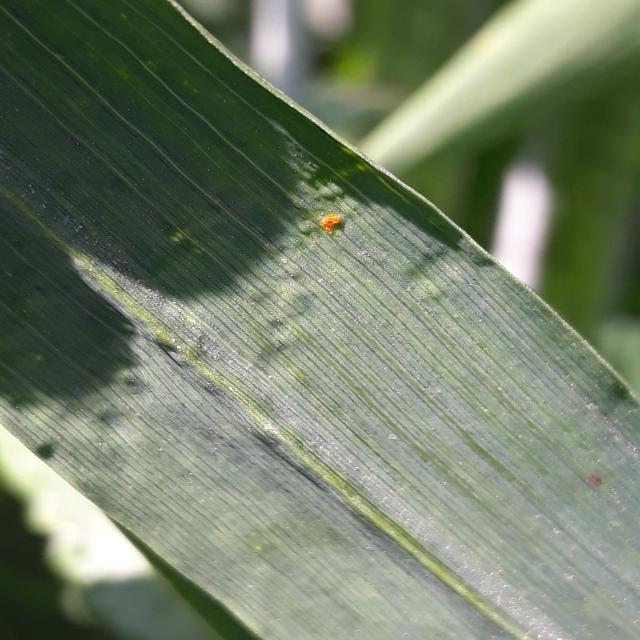orang_rust: (298, 190, 384, 254), (577, 444, 640, 527)
